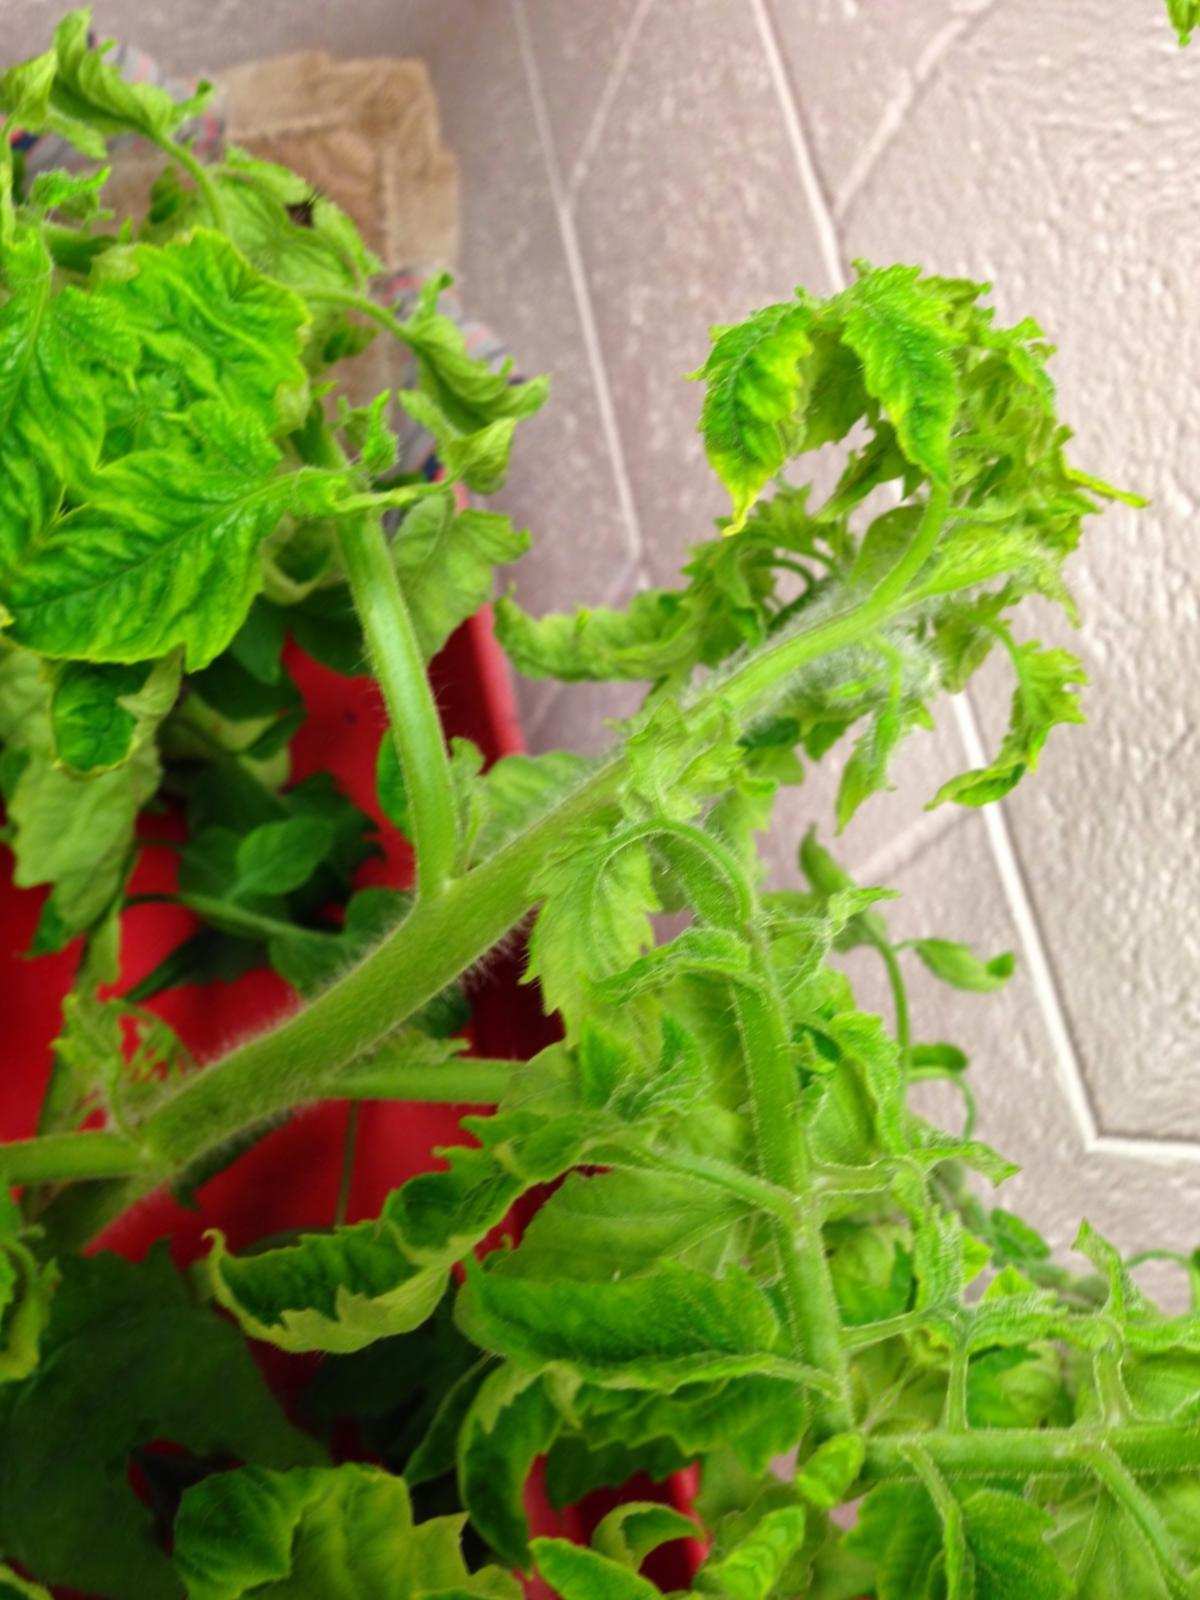Tomato leaf yellow virus: (160, 969, 621, 1456), (0, 335, 389, 770), (429, 1135, 834, 1532), (587, 260, 897, 583), (465, 782, 761, 1082), (773, 229, 1068, 524)
